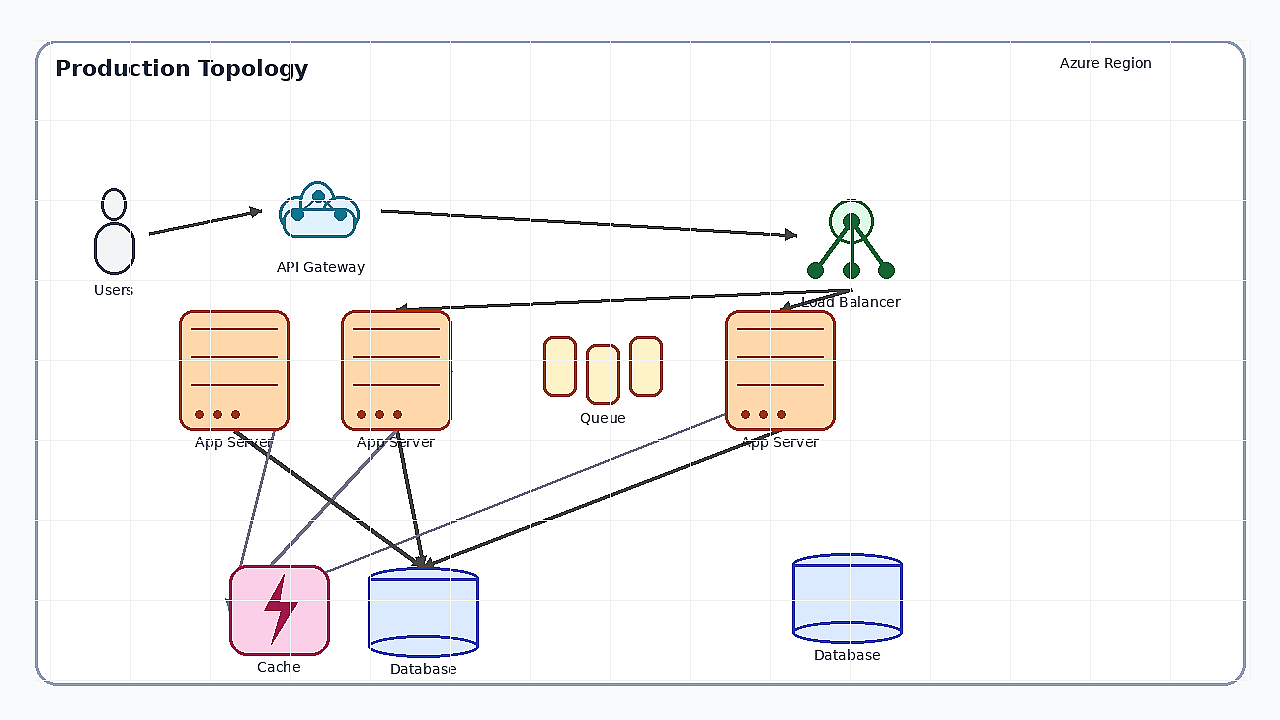API Gateway: (261, 165, 381, 255)
Application Server: (341, 310, 451, 430), (725, 310, 835, 430), (179, 310, 289, 430)
Cache: (229, 565, 329, 655)
Database: (792, 553, 902, 643), (368, 567, 478, 657)
Load Balancer: (796, 180, 906, 290)
Message Queue: (543, 336, 663, 406)
User: (79, 188, 149, 278)
